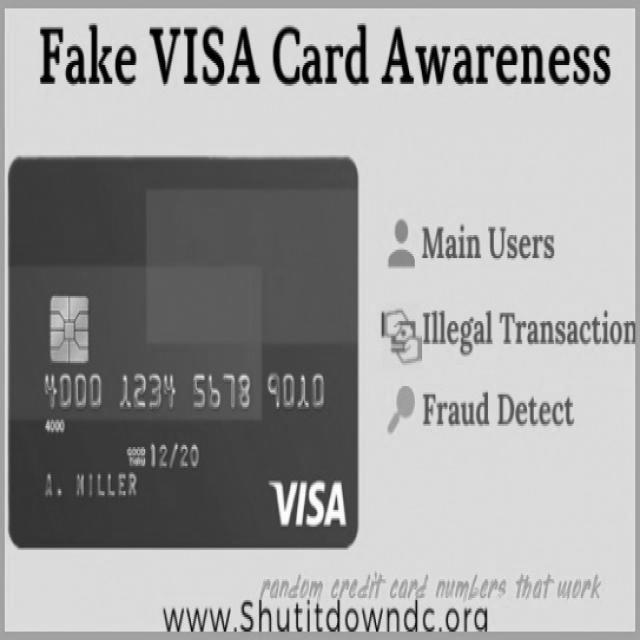card: (4, 158, 362, 556)
